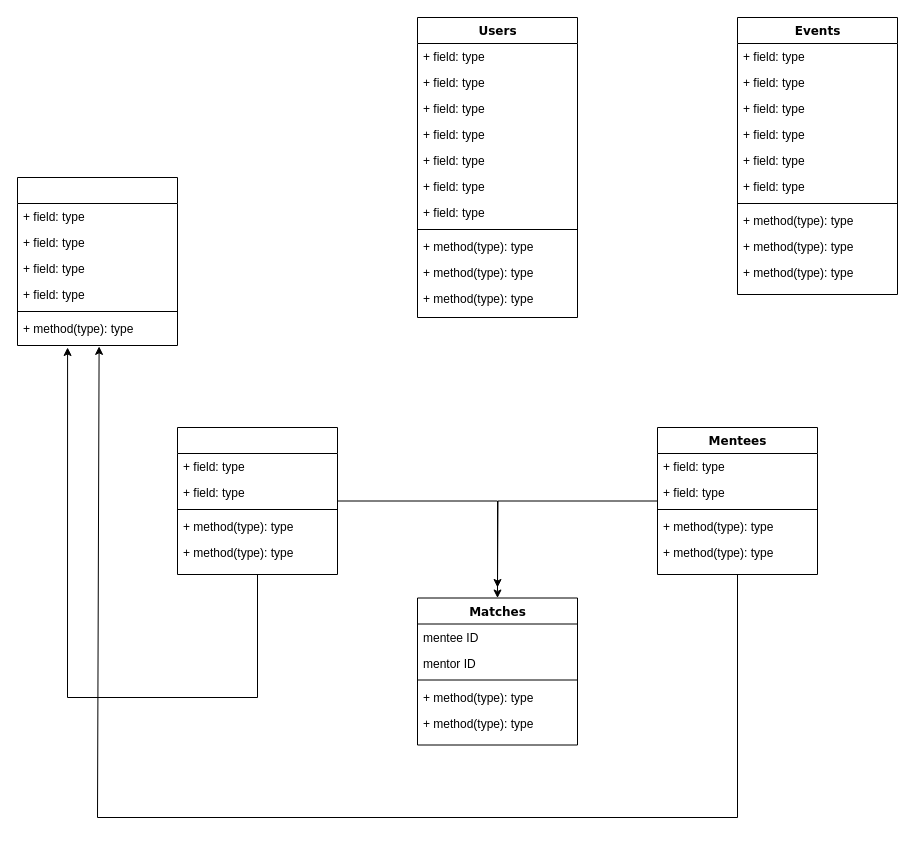
Image size: 915x843. Some labels were removed from this diagram. Each missing label, with the box of its shape:
Mentors: (176, 426, 338, 574)
Pathways: (16, 176, 178, 346)
